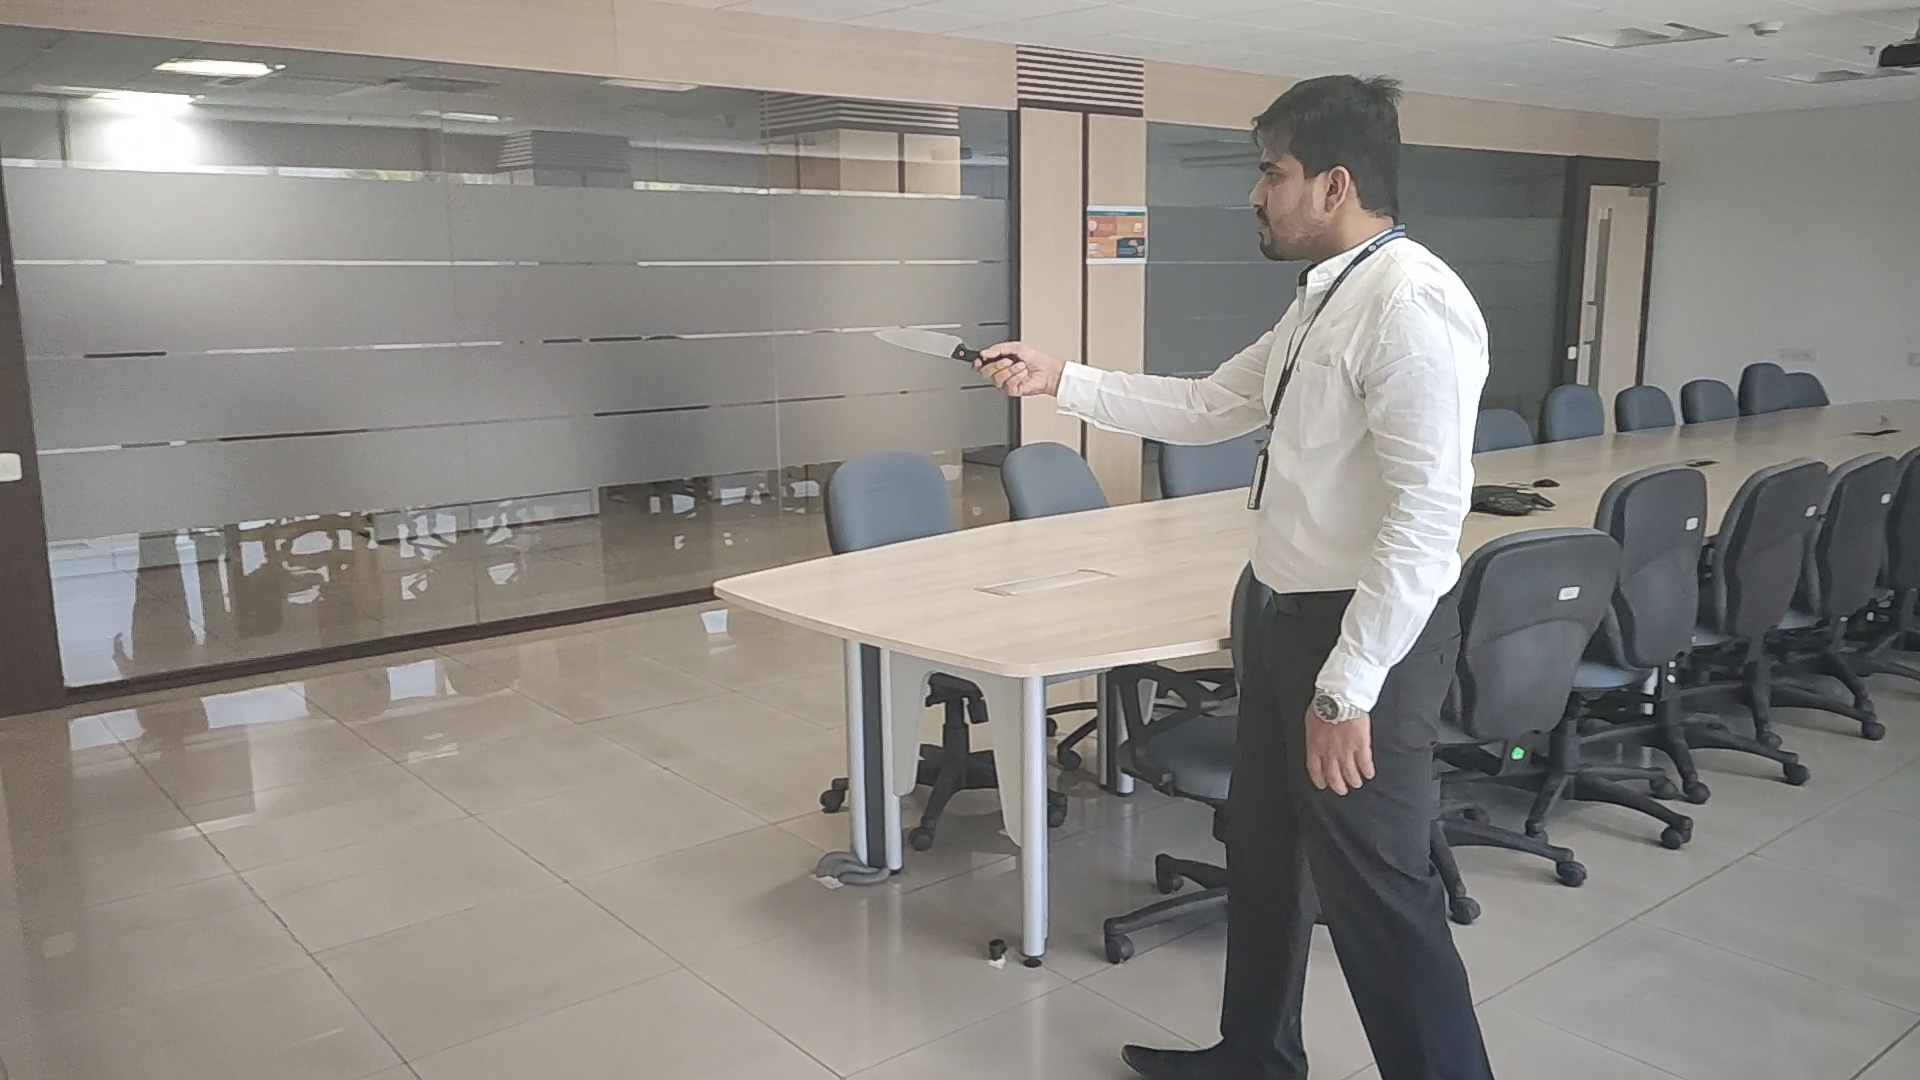knife: (873, 328, 971, 363)
